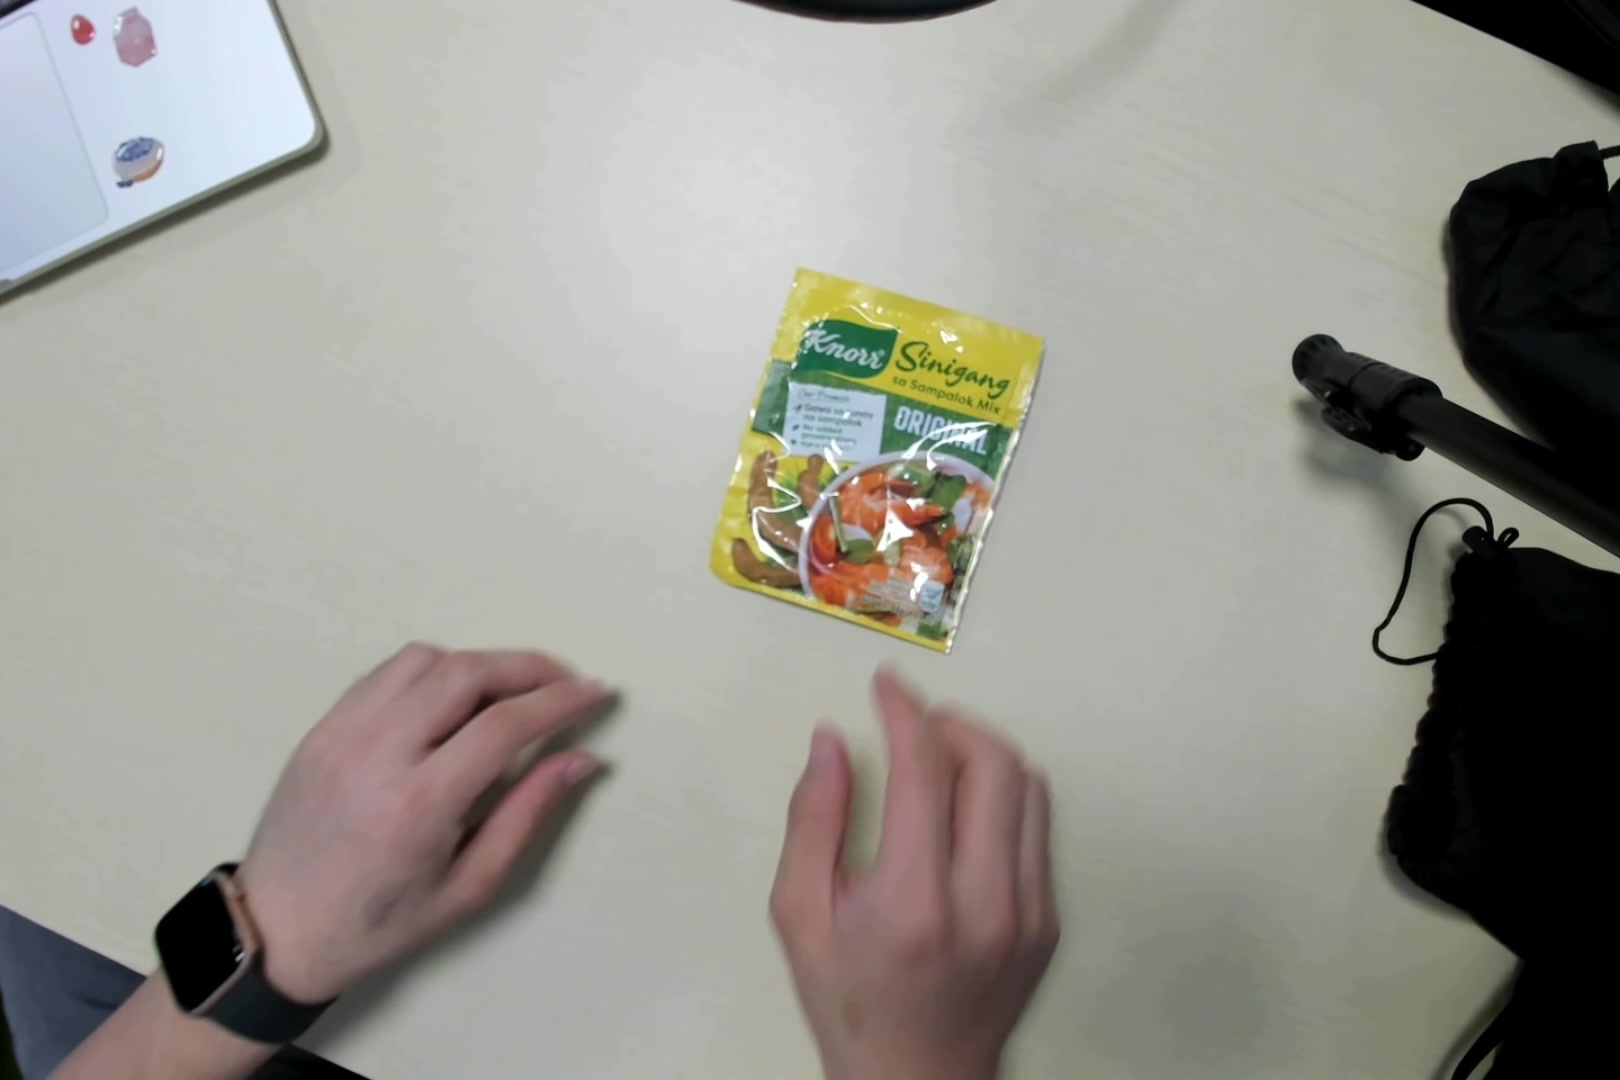SoupStock_0-99g_NonHalal_NonHealthy: (721, 259, 1033, 651)
